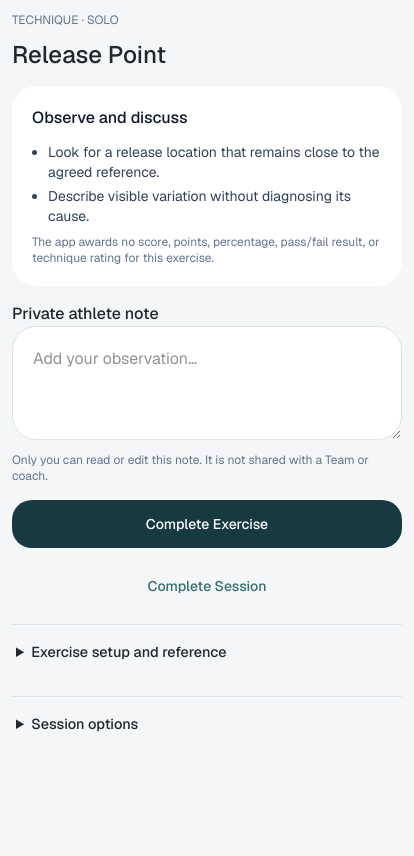
it: ExerciseSoloExecutionScreen › runs a Technique Exercise as observation and private note only
Check: the heading "Observe and discuss" is shown, box 32,107 -> 188,128
Step 1. Type "Release stayed close to the reference." into the text box labelled "Private athlete note" → (207, 383), box 12,326 -> 402,440
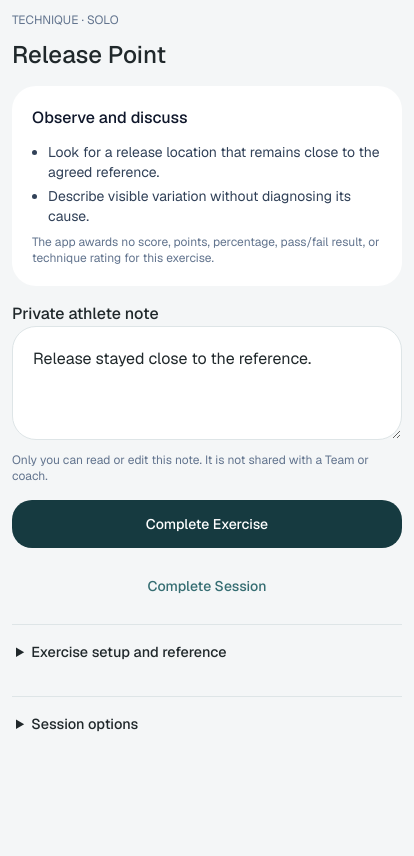
Step 2. Click the button "Complete Exercise" → (207, 524), box 12,500 -> 402,548
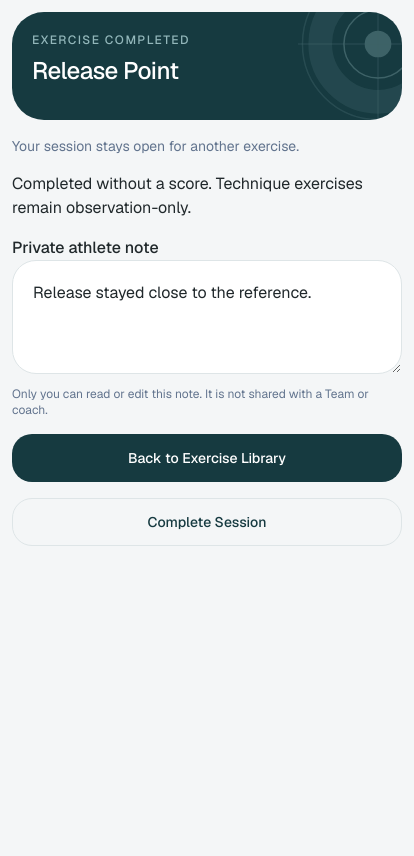
Check: the text "Completed without a score. Technique exercises remain observation-only." is shown, box 12,172 -> 402,220
Check: the button "Back to Exercise Library" is shown, box 12,434 -> 402,482
